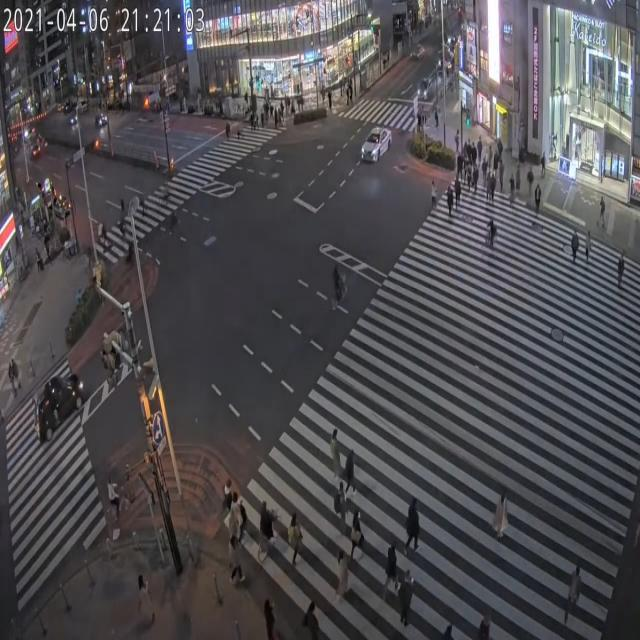bicycle: (256, 497, 282, 563), (328, 264, 351, 315), (484, 221, 500, 251)
humans: (224, 529, 247, 583), (256, 592, 281, 640), (334, 543, 352, 602), (406, 496, 424, 554), (565, 557, 581, 622), (326, 425, 343, 482), (332, 479, 347, 537), (401, 567, 413, 628), (231, 495, 245, 546), (302, 599, 318, 640), (386, 543, 398, 596), (288, 512, 302, 557), (346, 444, 357, 500), (496, 489, 506, 544), (525, 162, 536, 204), (617, 245, 629, 283), (222, 470, 232, 515), (354, 507, 363, 554), (570, 223, 580, 265), (429, 166, 439, 207), (508, 171, 516, 210), (584, 224, 592, 262), (464, 164, 473, 196), (455, 176, 462, 213), (498, 155, 505, 191), (516, 165, 522, 200), (447, 182, 452, 218), (482, 156, 486, 190), (474, 163, 478, 197), (536, 177, 540, 205), (489, 165, 492, 199)
